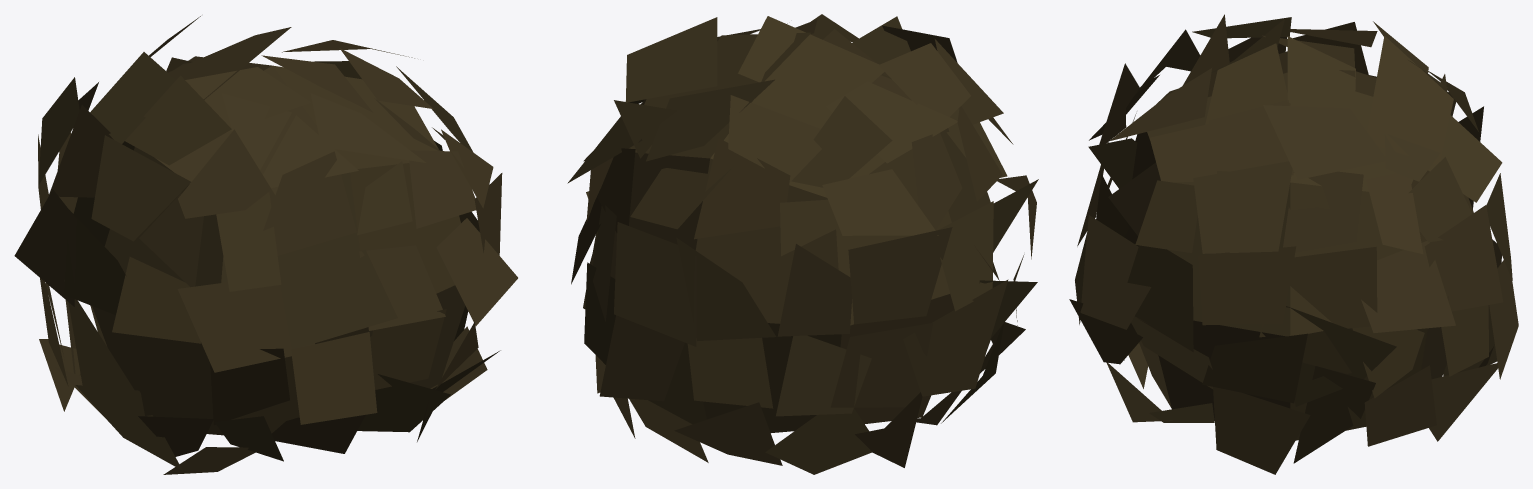
Rendered from BushesLowPolyDisplace.fbx.
3 views of the same model, side by side, from view 1: azimuth 30°, elevation 25°; view 2: azimuth 150°, elevation 25°; view 3: azimuth 270°, elevation 25° (orthographic). The views are drawn at different scales.
Visible parts, largest first — view 1: Bush2; view 2: Bush2; view 3: Bush2.
Part boxes in pixels (<box>): Bush2: <box>14,16,517,474</box>; Bush2: <box>567,14,1038,474</box>; Bush2: <box>1069,14,1518,474</box>.
Size of the model in its own units: 78.44 by 66.49 by 73.44.
